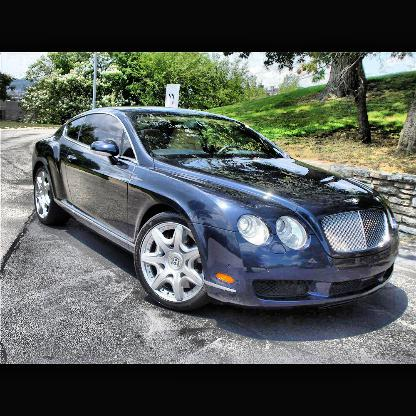Bentley Continental GT Coupe 2007: (31, 103, 401, 321)
